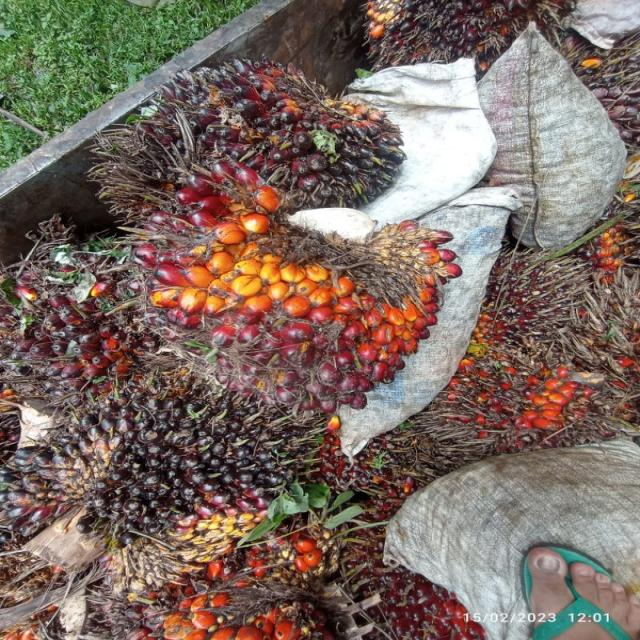fraksi 00: (0, 374, 352, 598), (87, 47, 491, 236)
fraksi 3: (96, 168, 474, 426), (440, 332, 616, 476)
